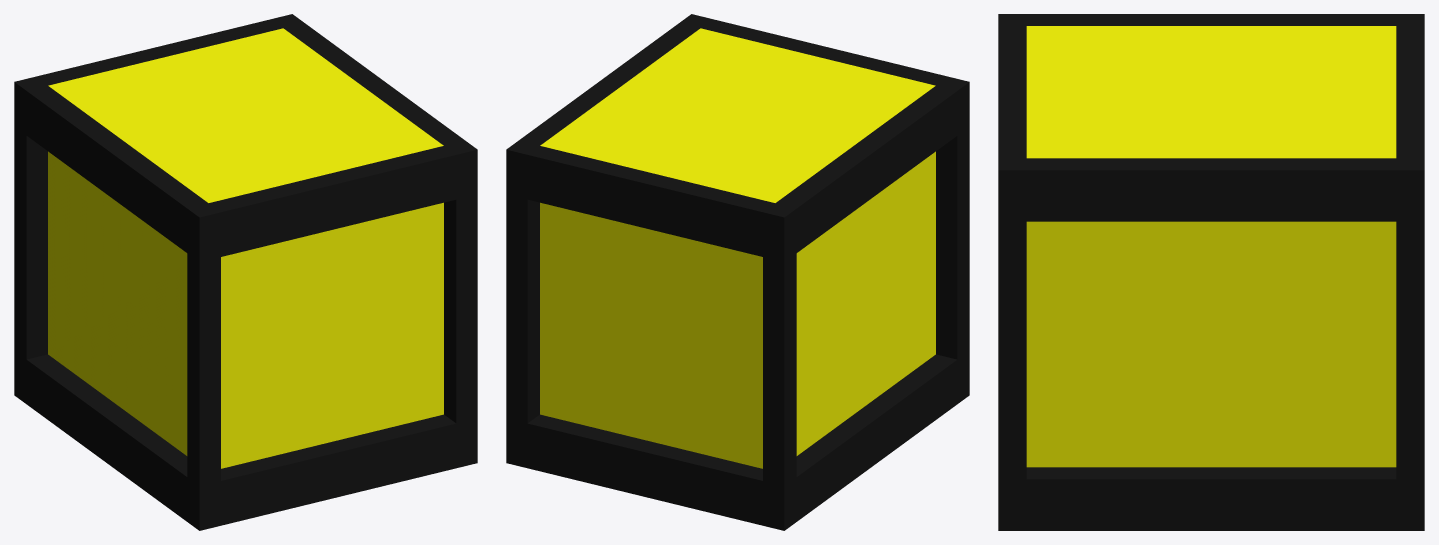
The model's file is Lamp2.obj.
3 renders of one model, left to right at view 1: azimuth 30°, elevation 25°; view 2: azimuth 150°, elevation 25°; view 3: azimuth 270°, elevation 25°, orthographic. The views are drawn at different scales.
Parts seen in each view (by area): view 1: Lamp2; view 2: Lamp2; view 3: Lamp2.
Part boxes in pixels (bbox=[...]): Lamp2: bbox=[14, 14, 477, 530]; Lamp2: bbox=[506, 14, 969, 530]; Lamp2: bbox=[998, 14, 1424, 530].
Size of the model in its own units: 13 by 14 by 15.
1 material, 1 textured.
